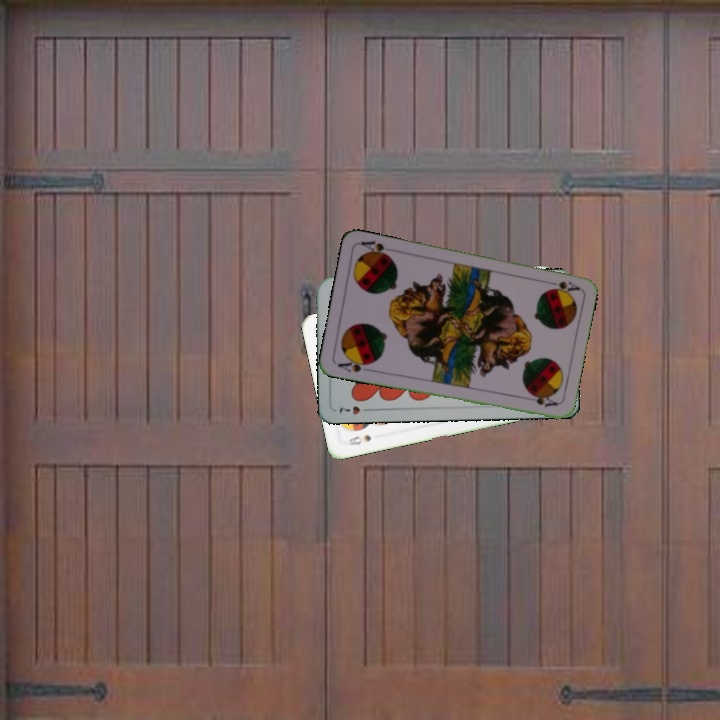H7: (335, 402, 374, 417)
S8: (345, 431, 374, 448)
SA: (334, 355, 375, 375), (541, 277, 582, 294)
